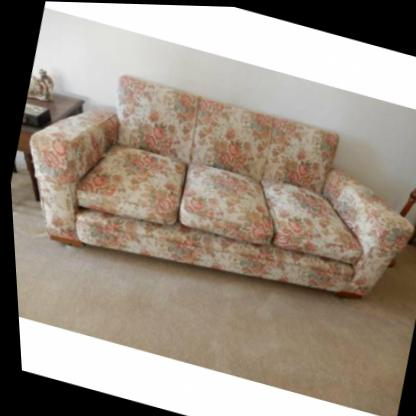Sofa: (2, 50, 416, 334)
